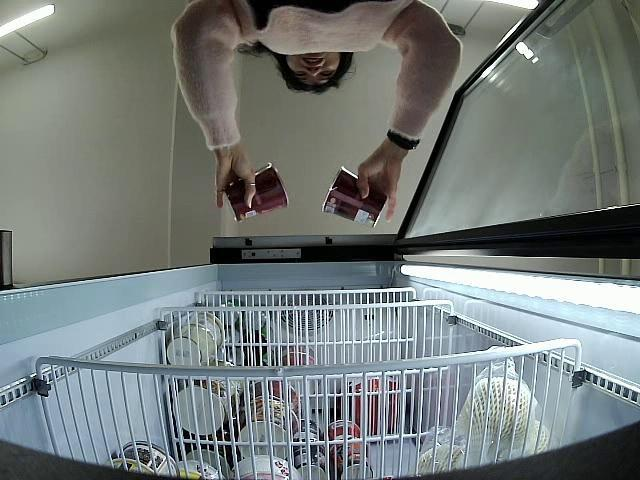06_nuguri_S: (319, 165, 390, 230), (223, 162, 290, 223)
